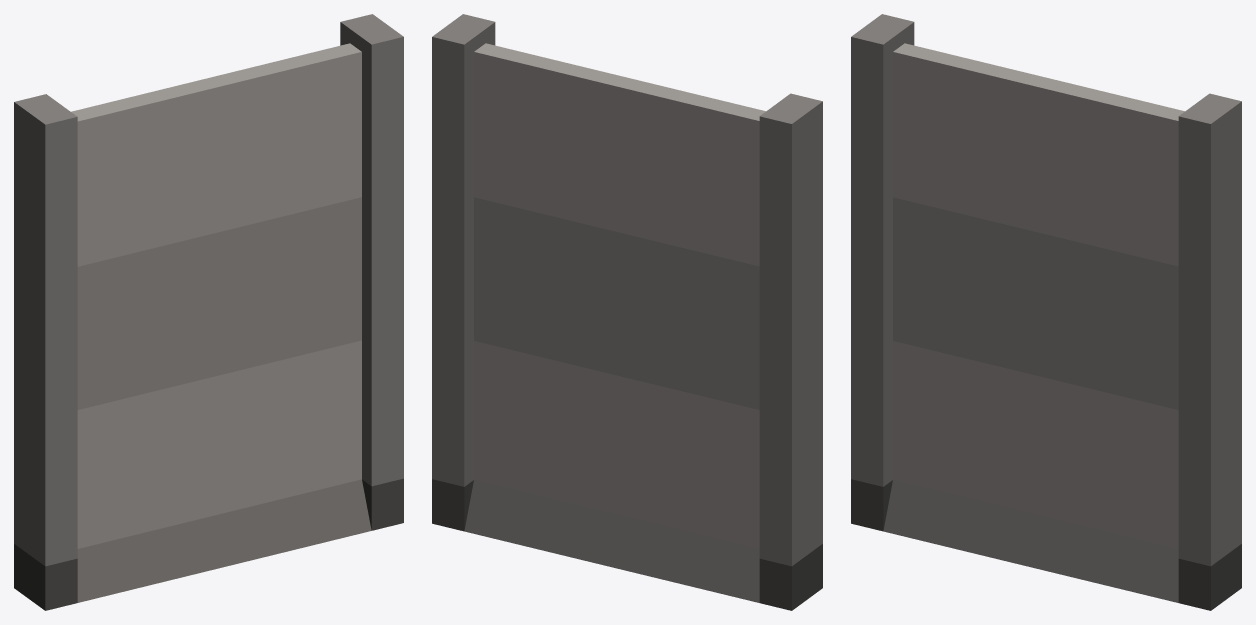
Rendered from wall.fbx.
3 renders of one model, left to right at view 1: azimuth 30°, elevation 25°; view 2: azimuth 150°, elevation 25°; view 3: azimuth 330°, elevation 25°, orthographic.
Visible parts, largest first — view 1: huitugou_2015_67; view 2: huitugou_2015_67; view 3: huitugou_2015_67.
Boxes of the visible parts, x1,y1,x2,y2 form: huitugou_2015_67: (14,14,403,610); huitugou_2015_67: (432,14,822,610); huitugou_2015_67: (851,14,1241,610).
Bounding box in the file's own units: 1499 × 1940 × 229.
Materials: 1 (1 with a texture image).
